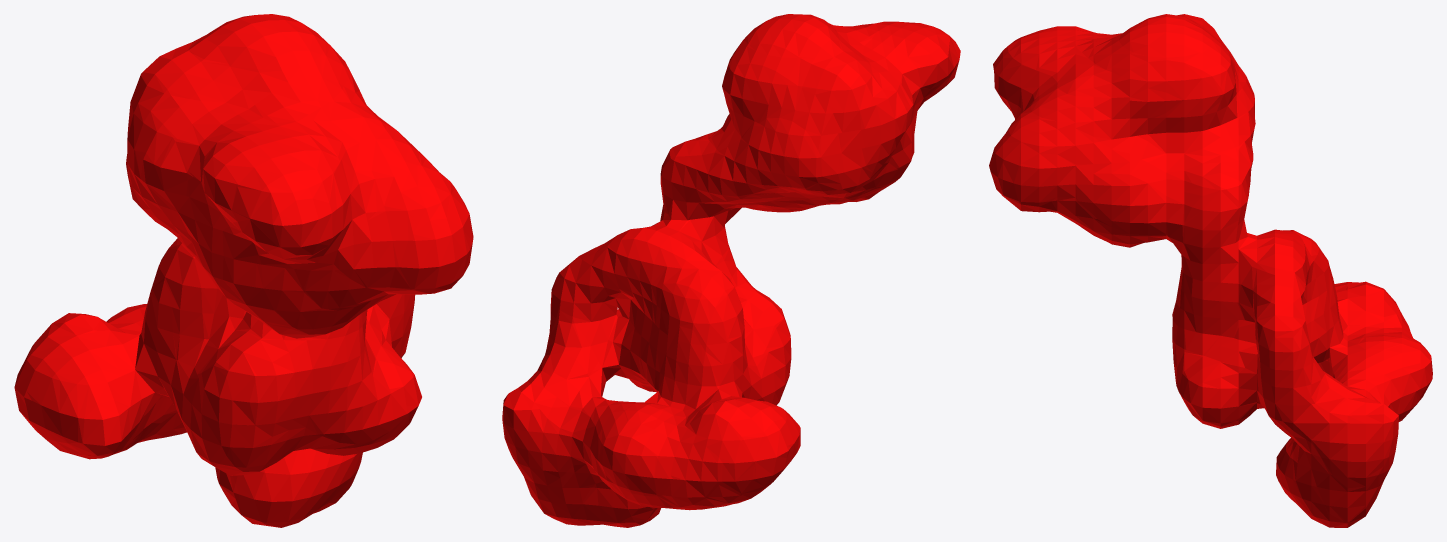
The model's file is accB_coarse.dae.
3 renders of one model, left to right at view 1: azimuth 30°, elevation 25°; view 2: azimuth 150°, elevation 25°; view 3: azimuth 270°, elevation 25°, orthographic. The views are drawn at different scales.
Visible parts, largest first — view 1: accB; view 2: accB; view 3: accB.
Boxes of the visible parts, x1,y1,x2,y2 form: accB: (14,14,473,527); accB: (502,14,960,527); accB: (989,14,1432,527).
Size of the model in its own units: 43.52 by 68.47 by 62.09.
